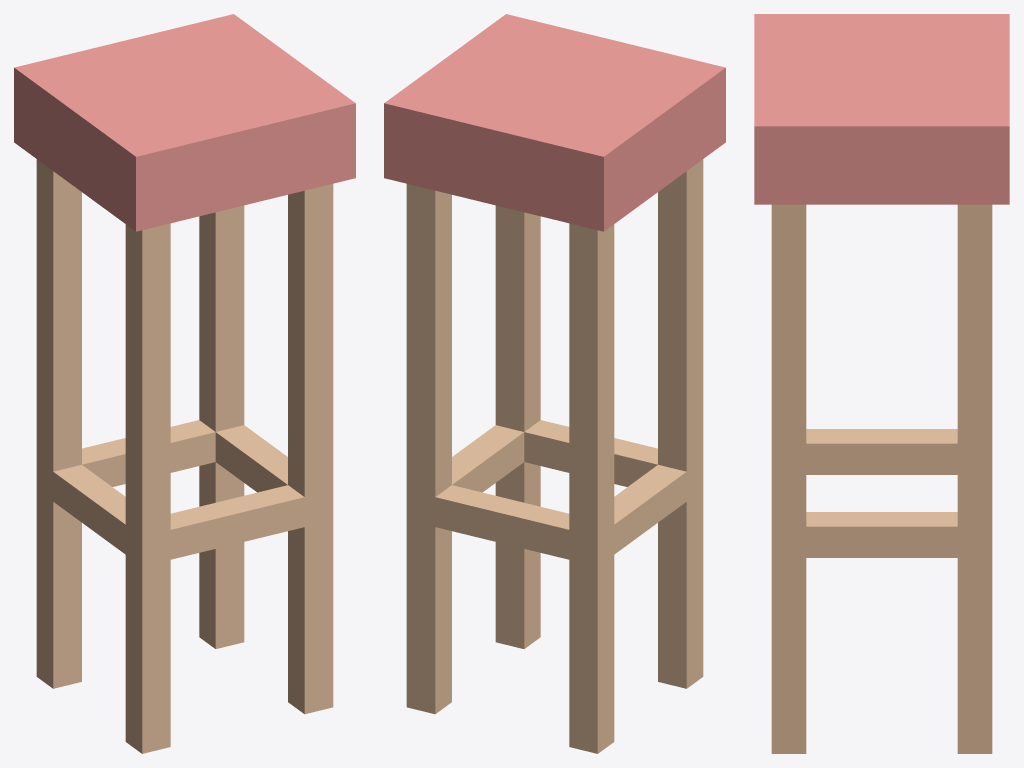
The model's file is stoolBarSquare.glb.
The picture shows the model from 3 angles, left to right: view 1: azimuth 30°, elevation 25°; view 2: azimuth 150°, elevation 25°; view 3: azimuth 270°, elevation 25°; orthographic projection. The views are drawn at different scales.
Visible parts, largest first — view 1: stoolBarSquare(Clone); view 2: stoolBarSquare(Clone); view 3: stoolBarSquare(Clone).
Boxes of the visible parts, <box> form: stoolBarSquare(Clone): <box>14,14,355,753</box>; stoolBarSquare(Clone): <box>384,14,725,753</box>; stoolBarSquare(Clone): <box>754,14,1009,753</box>.
Size of the model in its own units: 0.1535 by 0.405 by 0.1476.
